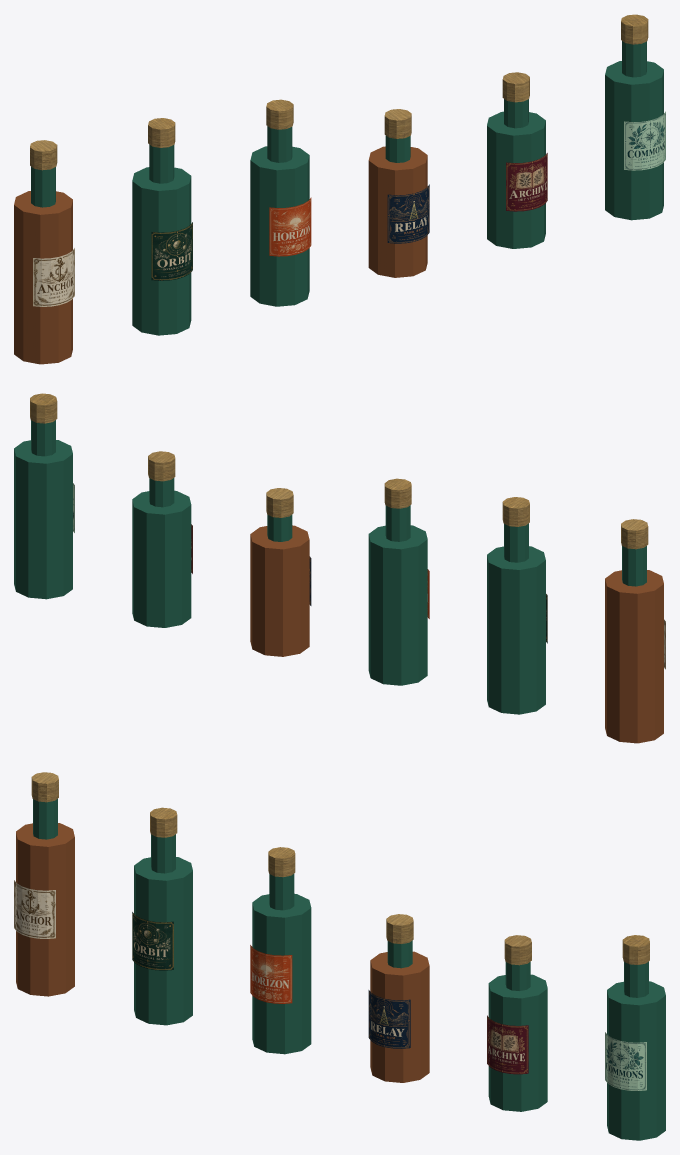
The model's file is commons-bottle-set.glb.
The picture shows the model from 3 angles, top to bottom: view 1: azimuth 30°, elevation 25°; view 2: azimuth 150°, elevation 25°; view 3: azimuth 330°, elevation 25°; orthographic projection.
Parts seen in each view (by area): view 1: FURN_Bottle.093, FURN_Bottle.094, FURN_Bottle.095, FURN_Bottle.098, FURN_Bottle.097, FURN_Bottle.096, FURN_BottleLabel.095, FURN_BottleLabel.096, FURN_BottleLabel.098, FURN_BottleLabel.094, FURN_BottleLabel.093, FURN_BottleLabel.097 (+12 smaller); view 2: FURN_Bottle.093, FURN_Bottle.094, FURN_Bottle.095, FURN_Bottle.098, FURN_Bottle.097, FURN_Bottle.096, FURN_BottleNeck.093, FURN_BottleNeck.094, FURN_BottleNeck.095, FURN_BottleNeck.098, FURN_BottleCap.097, FURN_BottleCap.093 (+6 smaller); view 3: FURN_Bottle.093, FURN_Bottle.094, FURN_Bottle.095, FURN_Bottle.098, FURN_Bottle.097, FURN_Bottle.096, FURN_BottleLabel.096, FURN_BottleLabel.095, FURN_BottleLabel.097, FURN_BottleLabel.094, FURN_BottleLabel.093, FURN_BottleLabel.098 (+12 smaller).
Boxes of the visible parts, x1=… form: FURN_Bottle.093: x1=14, y1=191, x2=72, y2=364; FURN_Bottle.094: x1=132, y1=167, x2=191, y2=335; FURN_Bottle.095: x1=250, y1=146, x2=309, y2=306; FURN_Bottle.098: x1=605, y1=61, x2=663, y2=220; FURN_Bottle.097: x1=487, y1=111, x2=545, y2=248; FURN_Bottle.096: x1=368, y1=146, x2=427, y2=277; FURN_BottleLabel.095: x1=269, y1=197, x2=311, y2=256; FURN_BottleLabel.096: x1=387, y1=184, x2=429, y2=243; FURN_BottleLabel.098: x1=624, y1=111, x2=665, y2=170; FURN_BottleLabel.094: x1=151, y1=222, x2=192, y2=280; FURN_BottleLabel.093: x1=33, y1=248, x2=74, y2=306; FURN_BottleLabel.097: x1=506, y1=153, x2=547, y2=211; FURN_Bottle.093: x1=605, y1=570, x2=663, y2=743; FURN_Bottle.094: x1=487, y1=546, x2=545, y2=714; FURN_Bottle.095: x1=368, y1=525, x2=427, y2=685; FURN_Bottle.098: x1=14, y1=440, x2=72, y2=599; FURN_Bottle.097: x1=132, y1=490, x2=191, y2=627; FURN_Bottle.096: x1=250, y1=525, x2=309, y2=656; FURN_BottleNeck.093: x1=622, y1=546, x2=646, y2=586; FURN_BottleNeck.094: x1=504, y1=523, x2=528, y2=562; FURN_BottleNeck.095: x1=385, y1=505, x2=410, y2=541; FURN_BottleNeck.098: x1=31, y1=420, x2=55, y2=456; FURN_BottleCap.097: x1=148, y1=451, x2=175, y2=481; FURN_BottleCap.093: x1=621, y1=519, x2=648, y2=549; FURN_Bottle.093: x1=16, y1=823, x2=74, y2=996; FURN_Bottle.094: x1=134, y1=857, x2=192, y2=1025; FURN_Bottle.095: x1=252, y1=893, x2=311, y2=1054; FURN_Bottle.098: x1=607, y1=981, x2=665, y2=1140; FURN_Bottle.097: x1=488, y1=974, x2=547, y2=1111; FURN_Bottle.096: x1=370, y1=951, x2=429, y2=1082; FURN_BottleLabel.096: x1=368, y1=990, x2=410, y2=1048; FURN_BottleLabel.095: x1=250, y1=945, x2=292, y2=1003; FURN_BottleLabel.097: x1=487, y1=1015, x2=528, y2=1074; FURN_BottleLabel.094: x1=132, y1=912, x2=173, y2=970; FURN_BottleLabel.093: x1=14, y1=880, x2=55, y2=938; FURN_BottleLabel.098: x1=605, y1=1032, x2=646, y2=1090.
Size of the model in its own units: 1.27 by 0.391 by 0.107.
4 materials, 2 textured.
